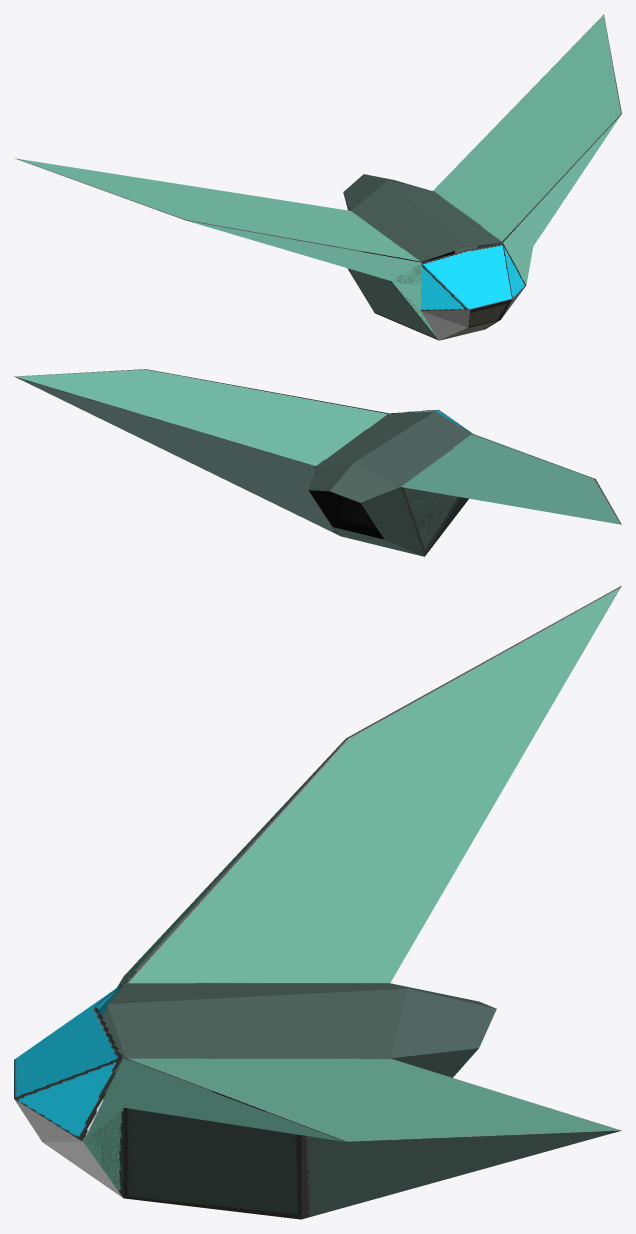
Rendered from spaceship.obj.
3 renders of one model, top to bottom at view 1: azimuth 30°, elevation 25°; view 2: azimuth 150°, elevation 25°; view 3: azimuth 270°, elevation 25°, orthographic. The views are drawn at different scales.
Visible parts, largest first — view 1: Cube_Cube.001_None, Cube_Cube.001_None_NONE; view 2: Cube_Cube.001_None; view 3: Cube_Cube.001_None, Cube_Cube.001_None_NONE.
Part boxes in pixels (left/top/right/bottom): Cube_Cube.001_None: left=15, top=14, right=621, bottom=340; Cube_Cube.001_None_NONE: left=421, top=286, right=525, bottom=340; Cube_Cube.001_None: left=14, top=369, right=621, bottom=556; Cube_Cube.001_None: left=14, top=586, right=621, bottom=1219; Cube_Cube.001_None_NONE: left=14, top=1099, right=122, bottom=1197.
Size of the model in its own units: 14.51 by 3.77 by 6.84.
2 materials, 1 textured.
